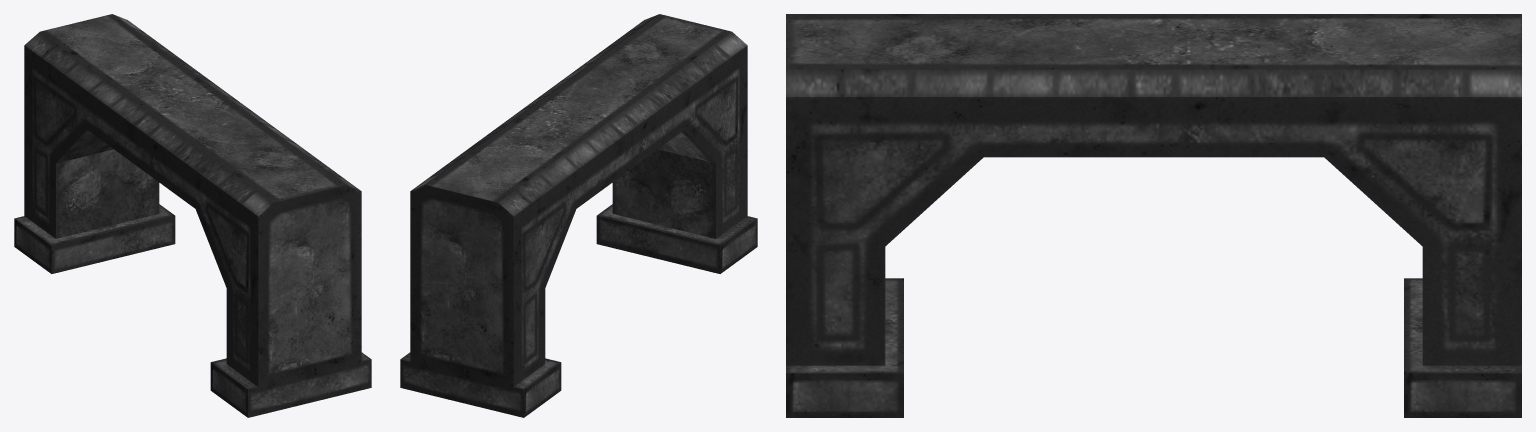
File: Bridge.fbx
3 views of the same model, side by side, from view 1: azimuth 30°, elevation 25°; view 2: azimuth 150°, elevation 25°; view 3: azimuth 270°, elevation 25° (orthographic). The views are drawn at different scales.
Parts seen in each view (by area): view 1: Bridge; view 2: Bridge; view 3: Bridge.
Boxes of the visible parts, left/top/right/bottom form: Bridge: left=14, top=14, right=371, bottom=417; Bridge: left=400, top=14, right=757, bottom=417; Bridge: left=786, top=14, right=1521, bottom=417.
Bounding box in the file's own units: 0.8002 × 1.29 × 2.62.
